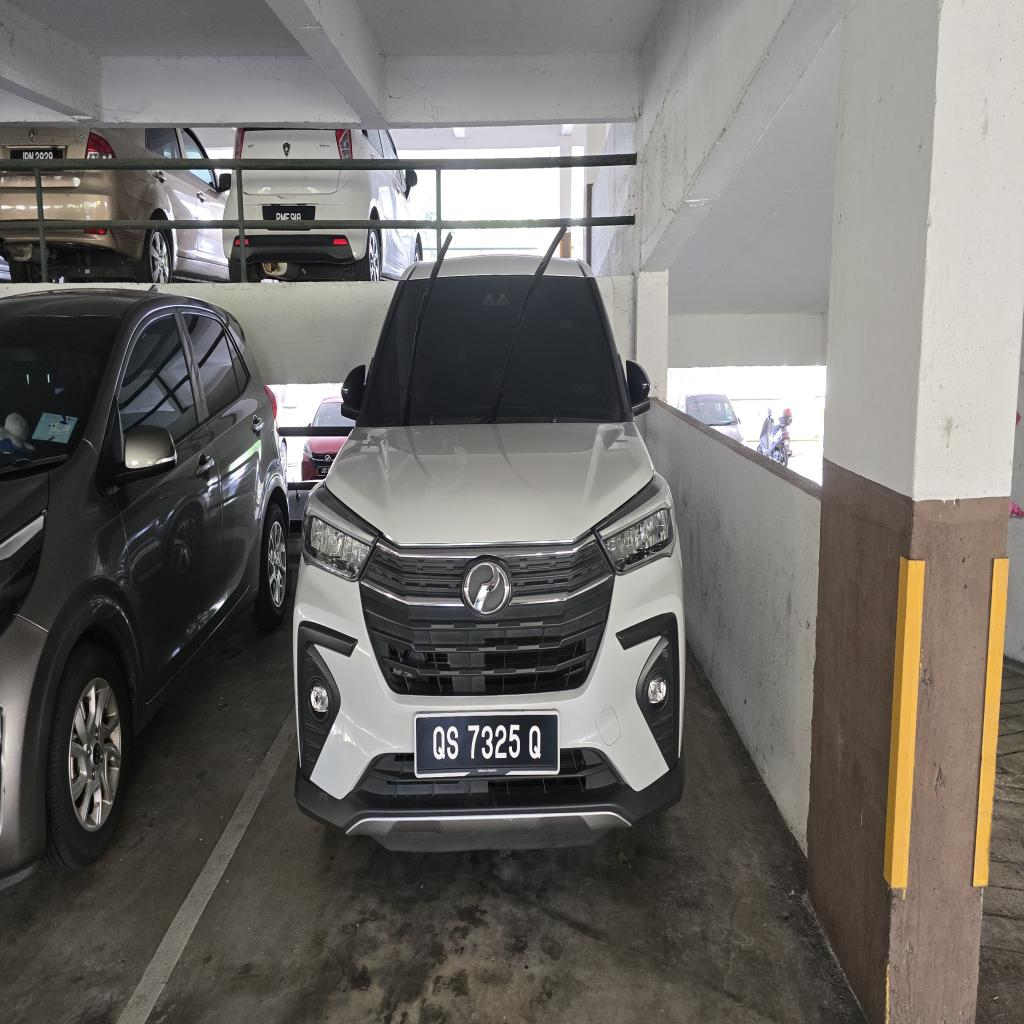car: (294, 256, 684, 849)
car plate: (415, 712, 559, 777)
